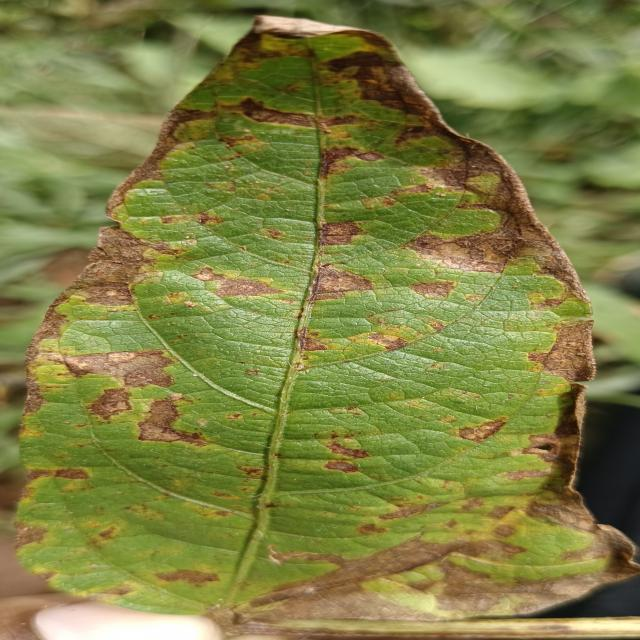Black gram_leaf spot: (0, 8, 640, 623)
